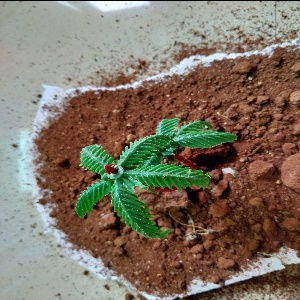plant: (69, 124, 213, 222)
